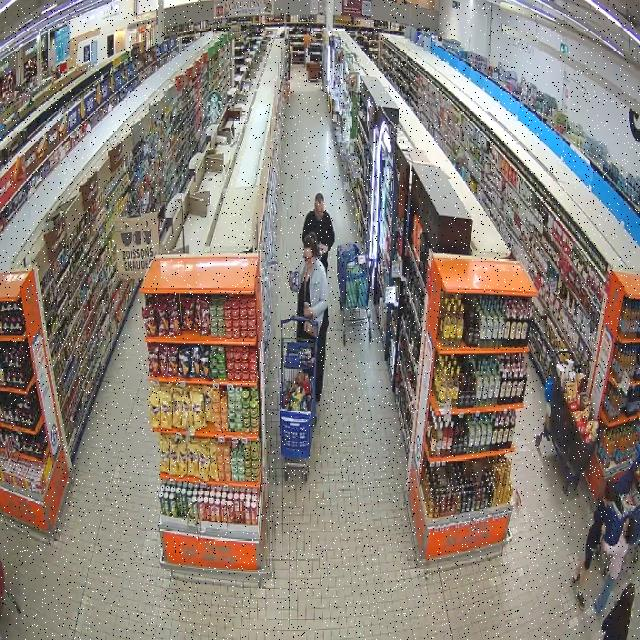article: (288, 269, 296, 285), (295, 270, 300, 288)
bags: (304, 318, 318, 338)
hands: (304, 305, 312, 317), (600, 535, 606, 550), (320, 244, 328, 255), (601, 523, 606, 535)
person: (290, 232, 328, 402), (572, 486, 617, 608), (595, 519, 635, 613), (301, 193, 335, 276)
